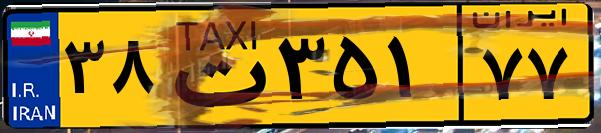1: (385, 28, 445, 110)
3: (270, 28, 330, 110), (57, 26, 110, 100)
5: (330, 28, 385, 110)
7: (475, 38, 525, 113), (525, 38, 570, 115)
8: (110, 28, 158, 98)
ت: (158, 12, 270, 120)
